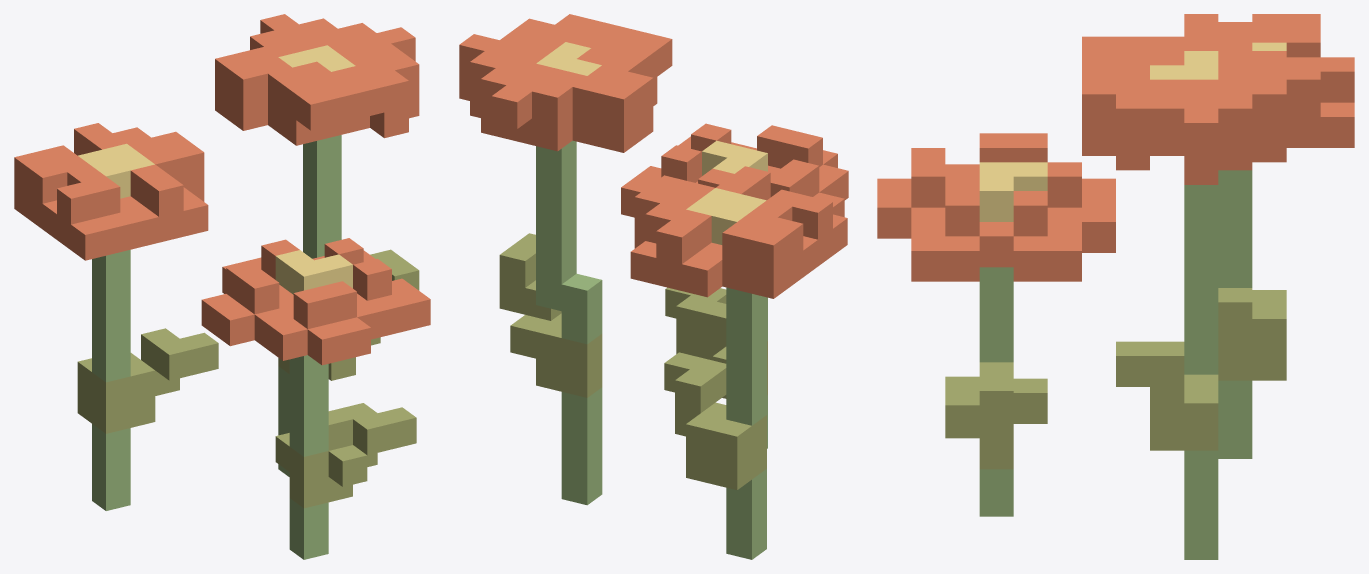
File: red_savanna_flower.glb
3 views of the same model, side by side, from view 1: azimuth 30°, elevation 25°; view 2: azimuth 150°, elevation 25°; view 3: azimuth 270°, elevation 25° (orthographic). The views are drawn at different scales.
Bounding box in the file's own units: 0.5833 × 0.6667 × 0.5833.
